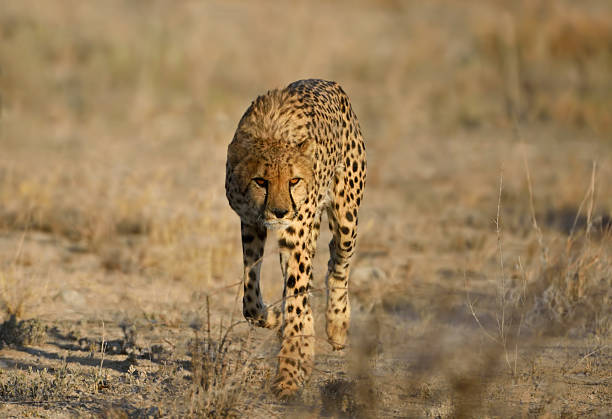cheetah: (220, 127, 321, 233)
